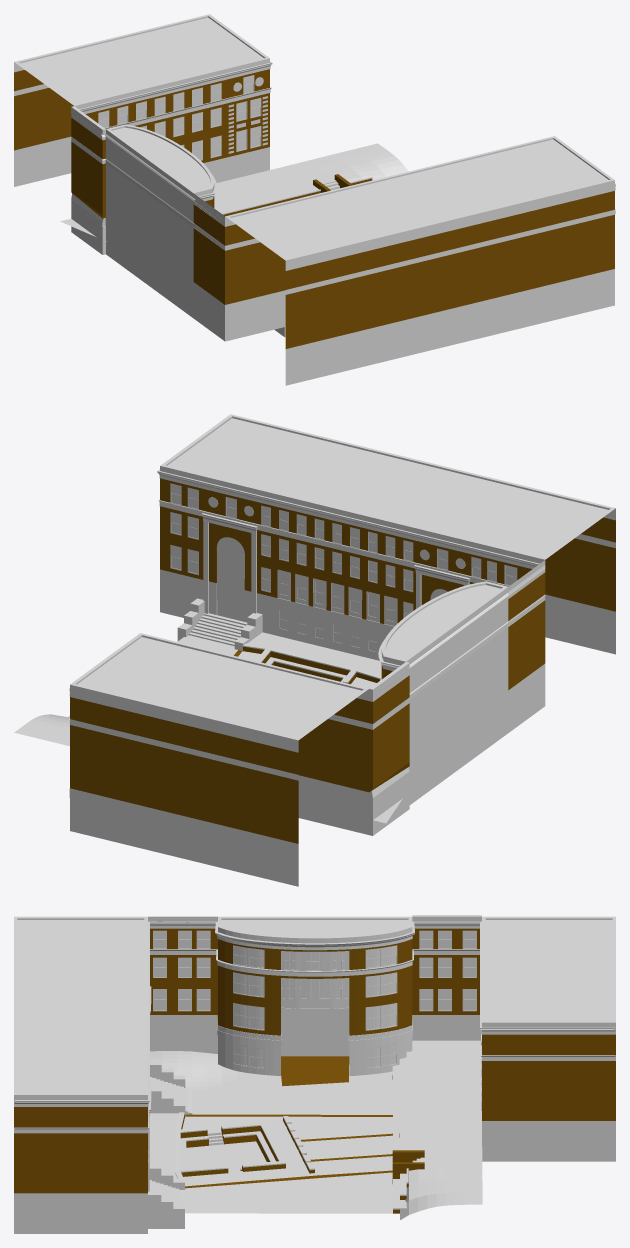
File: cech entrance 3-12-23.fbx
3 views of the same model, one above another, from view 1: azimuth 30°, elevation 25°; view 2: azimuth 150°, elevation 25°; view 3: azimuth 270°, elevation 25° (orthographic). The views are drawn at different scales.
Parts seen in each view (by area): view 1: building-leftwing, building-rightwing, building-no-windows, general grounds, building-no-windows.001, Plane.035, Plane.037; view 2: building-leftwing, building-rightwing, building-no-windows, general grounds, Plane.040, building-no-windows.001, arch block 1, Plane.017, Cube.001, Plane.042, Plane.041, arch block 1.001; view 3: general grounds, building-leftwing, building-rightwing, building-no-windows, building-no-windows.001, Plane.032, general grounds.002, general grounds.001, Plane.033, windows, Cube.001, Cube.002 (+1 smaller).
Boxes of the visible parts, bbox=[...] form: building-leftwing: bbox=[225, 136, 614, 385]; building-rightwing: bbox=[14, 14, 269, 186]; building-no-windows: bbox=[79, 61, 615, 341]; general grounds: bbox=[60, 143, 408, 241]; building-no-windows.001: bbox=[71, 106, 105, 254]; Plane.035: bbox=[117, 83, 221, 160]; Plane.037: bbox=[243, 75, 261, 148]; building-leftwing: bbox=[160, 414, 615, 660]; building-rightwing: bbox=[69, 633, 369, 886]; building-no-windows: bbox=[69, 469, 545, 804]; general grounds: bbox=[14, 613, 402, 823]; Plane.040: bbox=[261, 505, 413, 622]; building-no-windows.001: bbox=[369, 662, 409, 835]; arch block 1: bbox=[201, 513, 257, 613]; Plane.017: bbox=[279, 609, 386, 652]; Cube.001: bbox=[177, 598, 262, 651]; Plane.042: bbox=[170, 483, 181, 570]; Plane.041: bbox=[187, 487, 198, 575]; arch block 1.001: bbox=[414, 565, 470, 608]; general grounds: bbox=[149, 1040, 482, 1219]; building-leftwing: bbox=[14, 916, 147, 1233]; building-rightwing: bbox=[482, 916, 615, 1161]; building-no-windows: bbox=[14, 916, 615, 1133]; building-no-windows.001: bbox=[412, 915, 481, 1040]; Plane.032: bbox=[281, 1008, 349, 1056]; general grounds.002: bbox=[182, 1065, 392, 1186]; general grounds.001: bbox=[150, 1051, 281, 1090]; Plane.033: bbox=[419, 930, 476, 1011]; windows: bbox=[153, 930, 210, 1011]; Cube.001: bbox=[148, 1164, 184, 1228]; Cube.002: bbox=[150, 1061, 185, 1117].
Size of the model in its own units: 32019 by 23544 by 8875.
